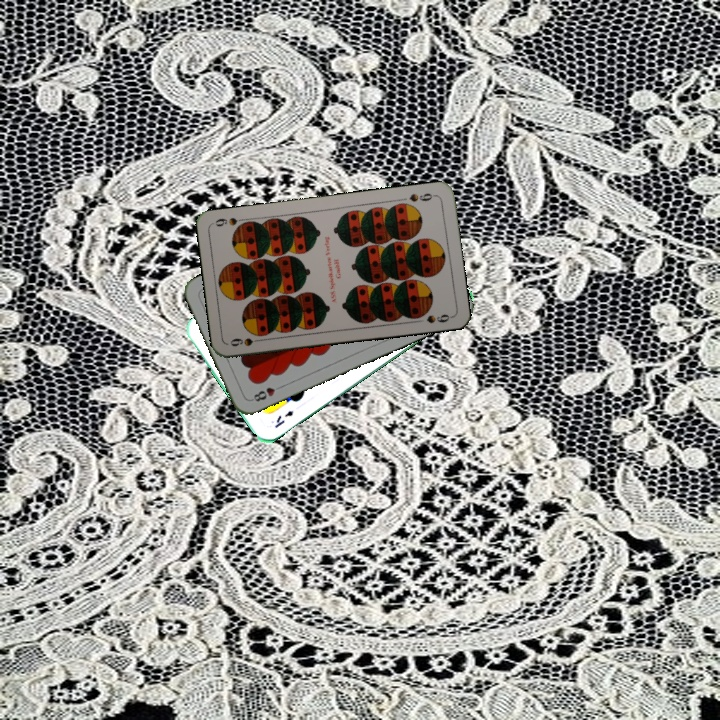EK: (270, 406, 296, 431)
H8: (247, 381, 286, 404)
S9: (226, 334, 267, 349), (405, 189, 439, 204)
